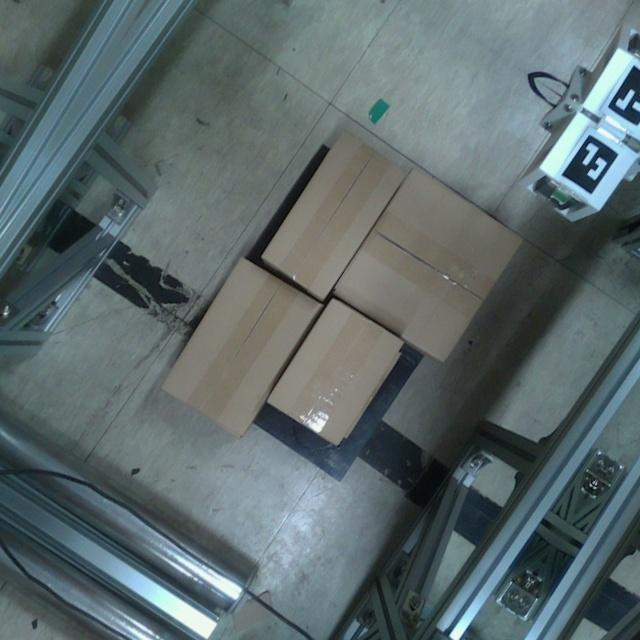box: (329, 163, 530, 369), (152, 249, 332, 445), (256, 125, 413, 304), (262, 293, 409, 452)
